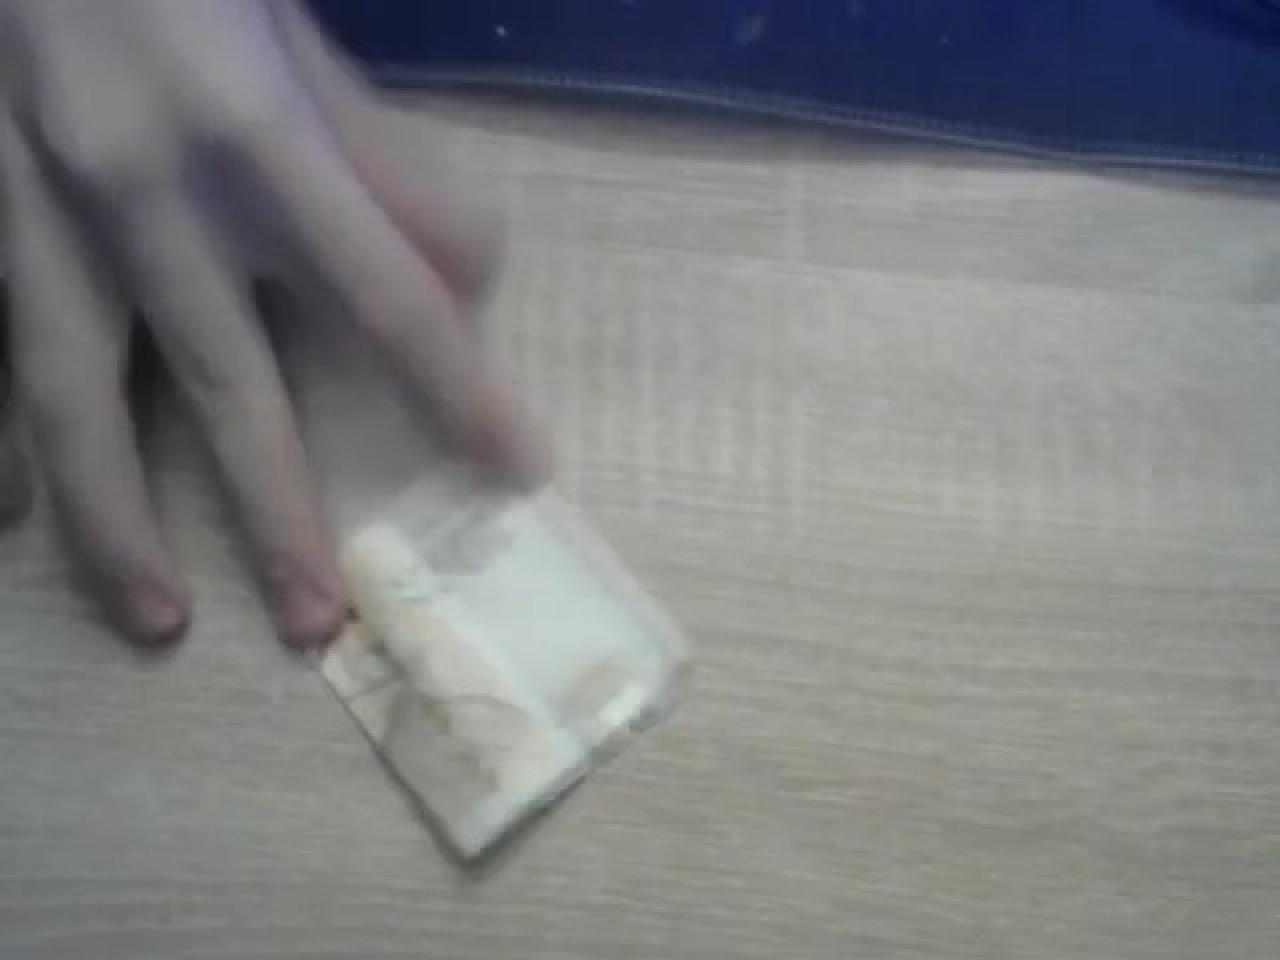10leva: (309, 456, 695, 867)
